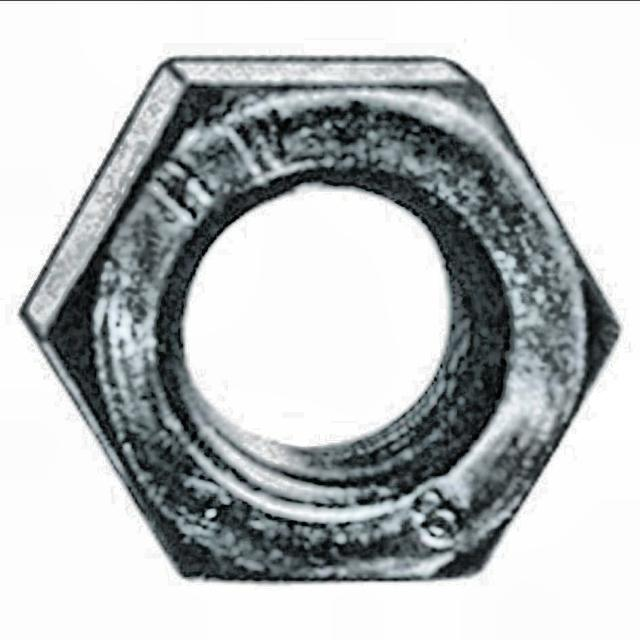Nut Detection - v1 Nut Dataset: (13, 44, 628, 597)
